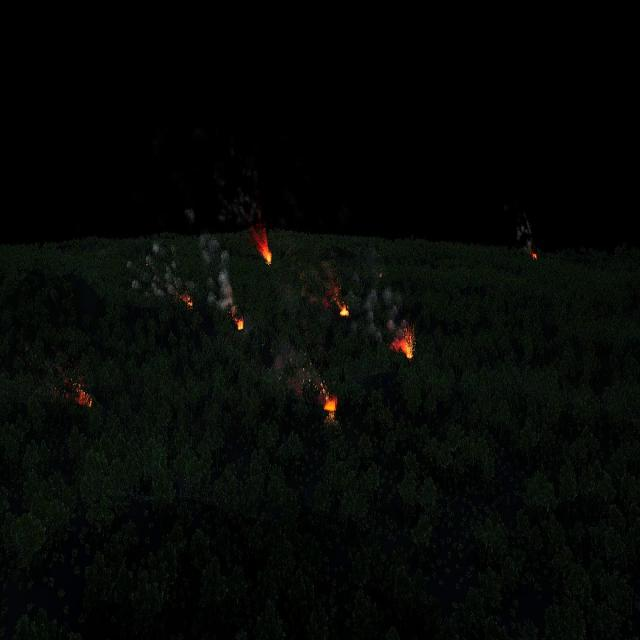fire: (396, 333, 415, 361), (76, 388, 92, 408), (262, 239, 273, 264), (323, 396, 338, 414), (182, 294, 193, 308), (340, 306, 350, 318), (236, 317, 245, 330), (531, 251, 538, 260), (379, 272, 383, 278)
smoke: (348, 275, 407, 343), (127, 238, 178, 300), (217, 183, 265, 247), (198, 232, 234, 312), (274, 347, 324, 398), (301, 261, 340, 307), (53, 363, 85, 396), (515, 215, 536, 251), (184, 206, 196, 224)
